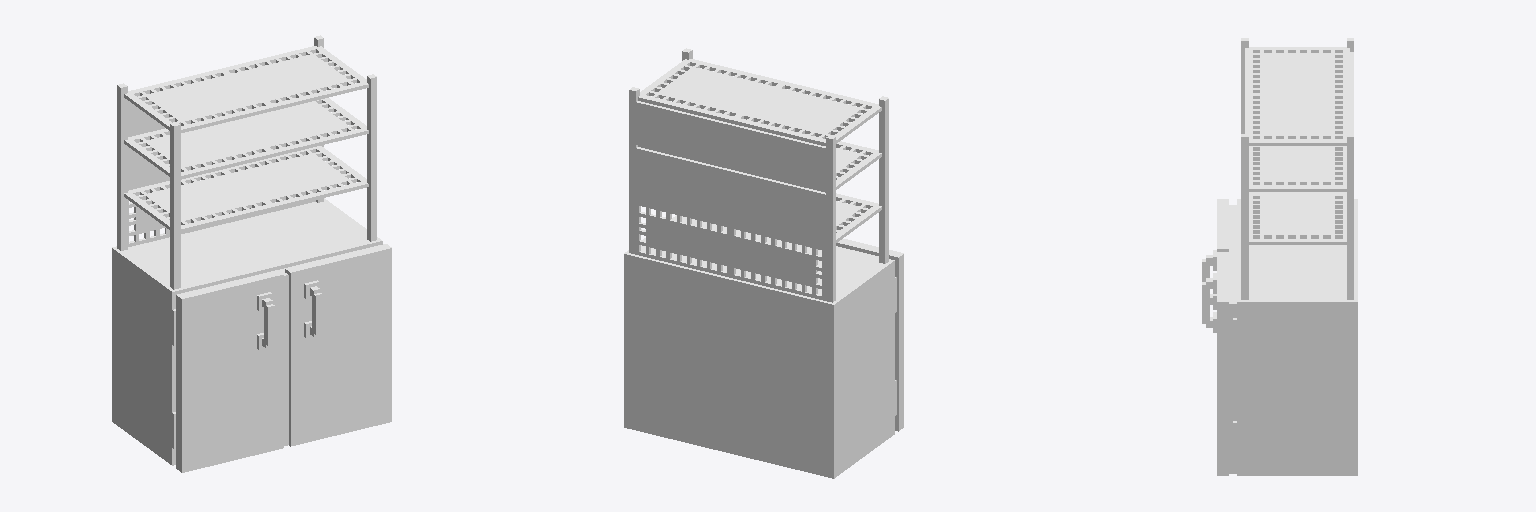
Rendered from foodshelf.obj.
3 views of the same model, side by side, from view 1: azimuth 30°, elevation 25°; view 2: azimuth 150°, elevation 25°; view 3: azimuth 270°, elevation 25° (orthographic).
Parts seen in each view (by area): view 1: foodshelf; view 2: foodshelf; view 3: foodshelf.
Boxes of the visible parts, x1=… form: foodshelf: x1=112, y1=35, x2=391, y2=472; foodshelf: x1=624, y1=48, x2=903, y2=478; foodshelf: x1=1202, y1=38, x2=1357, y2=475.
Size of the model in its own units: 62 by 95 by 40.